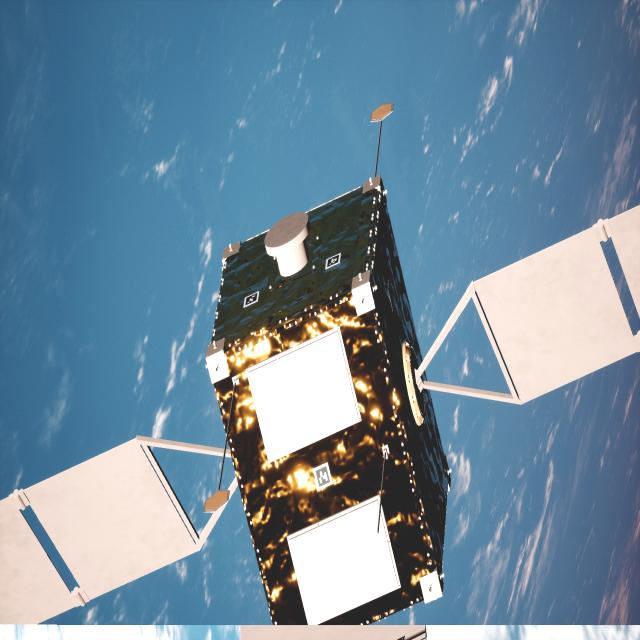satellite: (0, 177, 640, 628)
